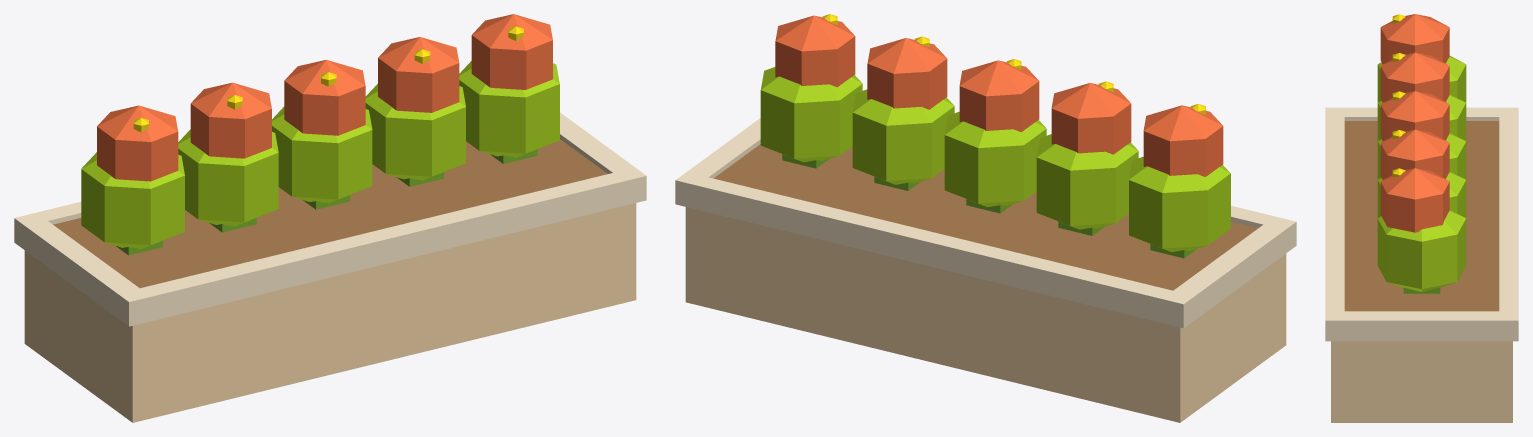
The model's file is Planter_Red_Flowers.glb.
3 views of the same model, side by side, from view 1: azimuth 30°, elevation 25°; view 2: azimuth 150°, elevation 25°; view 3: azimuth 270°, elevation 25° (orthographic). The views are drawn at different scales.
Visible parts, largest first — view 1: Planter_Red_Flowers; view 2: Planter_Red_Flowers; view 3: Planter_Red_Flowers.
Part boxes in pixels (<box>): Planter_Red_Flowers: <box>14,14,646,422</box>; Planter_Red_Flowers: <box>675,14,1296,422</box>; Planter_Red_Flowers: <box>1325,14,1518,422</box>.
Bounding box in the file's own units: 2.21 × 1.09 × 0.85.
